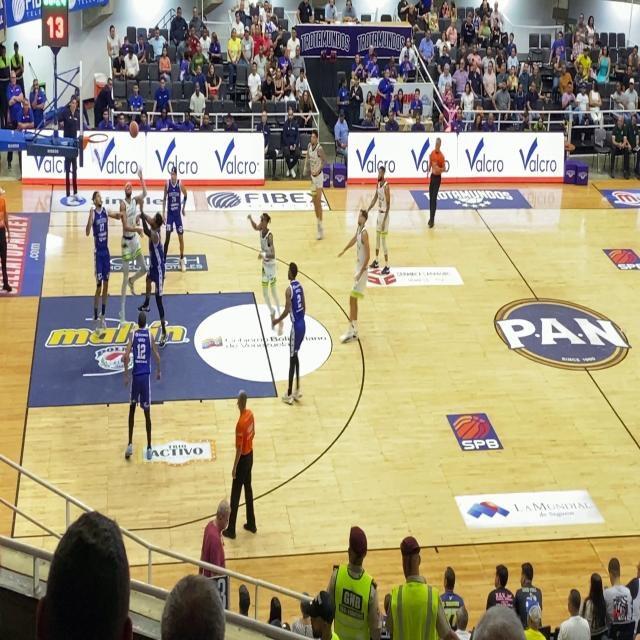Ball: (124, 118, 141, 150)
referee: (232, 387, 260, 530), (0, 177, 16, 294), (428, 141, 444, 231)
team1: (122, 170, 144, 322), (255, 205, 279, 334), (302, 126, 331, 232), (349, 211, 371, 345), (374, 165, 391, 275)
team2: (275, 259, 309, 406), (85, 186, 112, 313), (132, 307, 154, 460), (163, 165, 190, 272), (148, 215, 168, 343)
ubasket: (85, 131, 110, 169)
